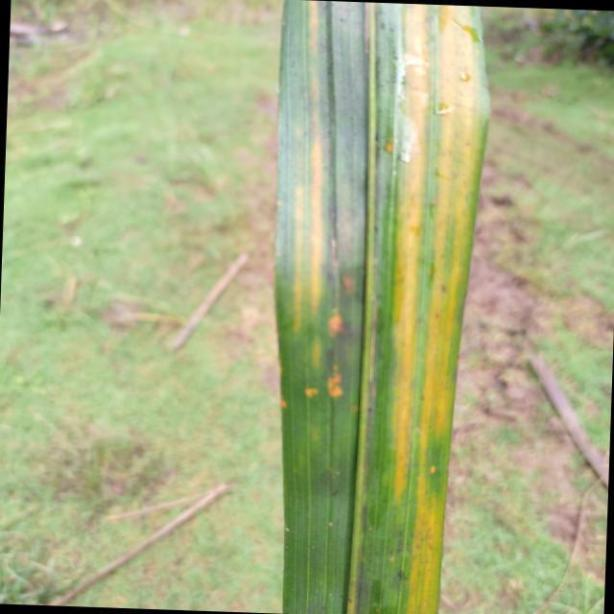Megnesium: (278, 0, 491, 614)
